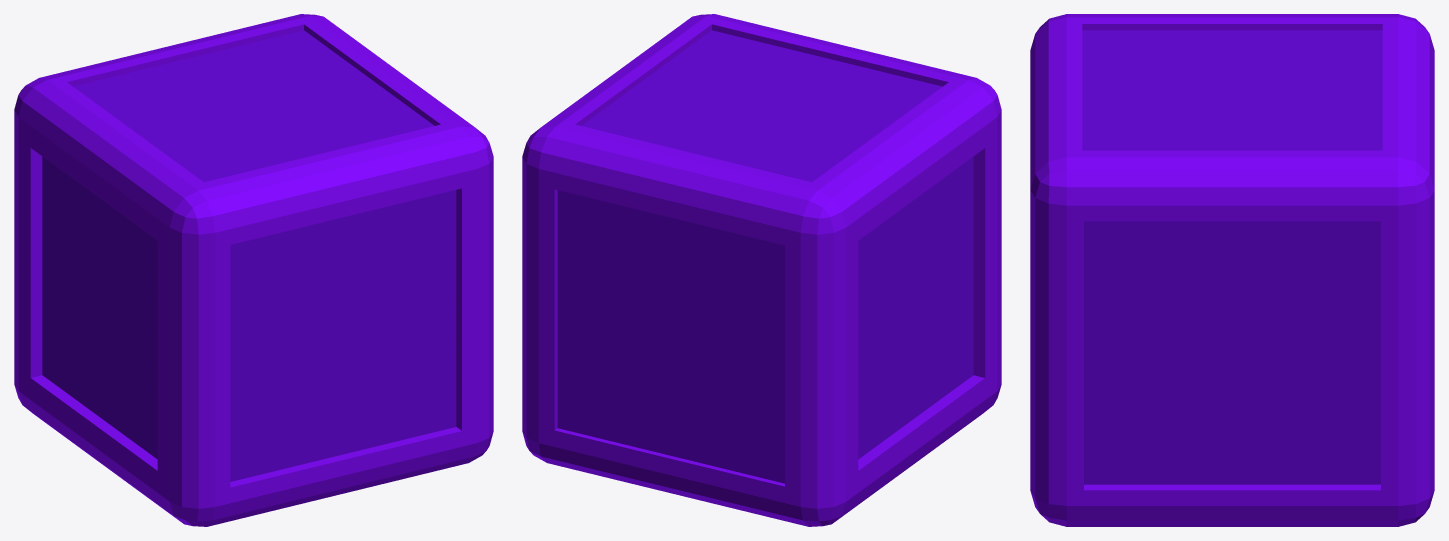
Rendered from obsticle_2.fbx.
3 views of the same model, side by side, from view 1: azimuth 30°, elevation 25°; view 2: azimuth 150°, elevation 25°; view 3: azimuth 270°, elevation 25° (orthographic). The views are drawn at different scales.
Visible parts, largest first — view 1: Cube.025; view 2: Cube.025; view 3: Cube.025.
Boxes of the visible parts, bbox=[...] form: Cube.025: bbox=[14, 14, 493, 526]; Cube.025: bbox=[522, 14, 1001, 526]; Cube.025: bbox=[1030, 14, 1434, 526].
Bounding box in the file's own units: 200 × 200 × 200.
